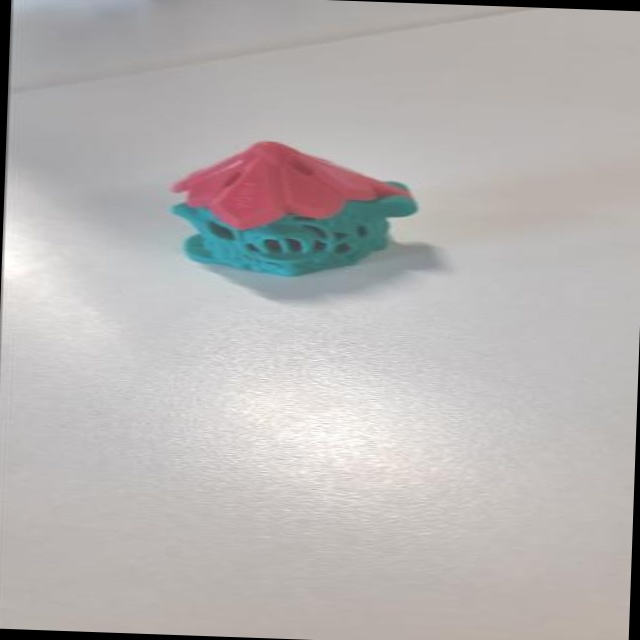House: (157, 127, 471, 314)
